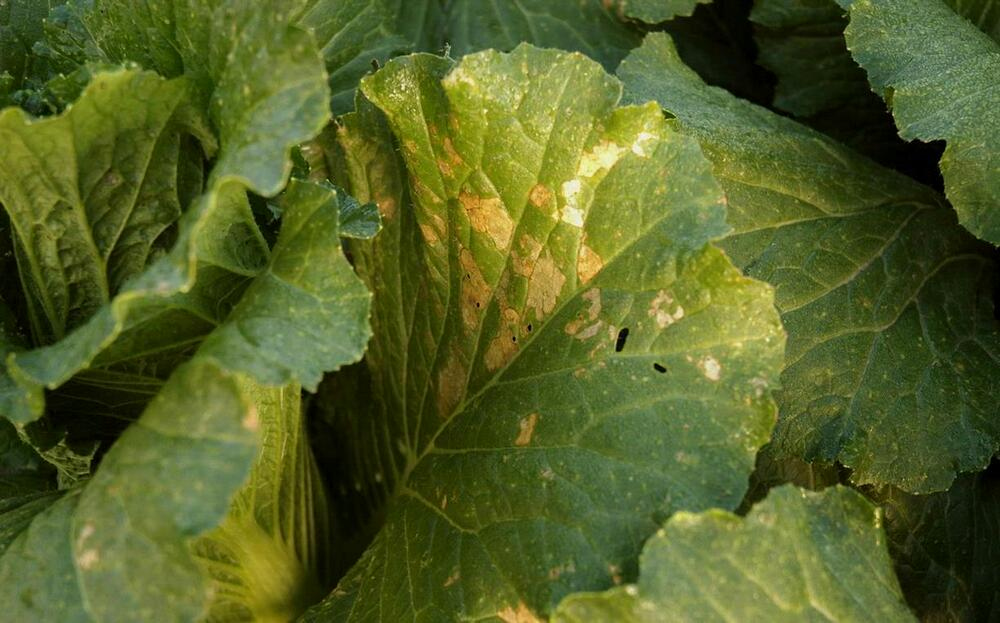Bok-Choy-Diseased: (291, 65, 764, 529)
